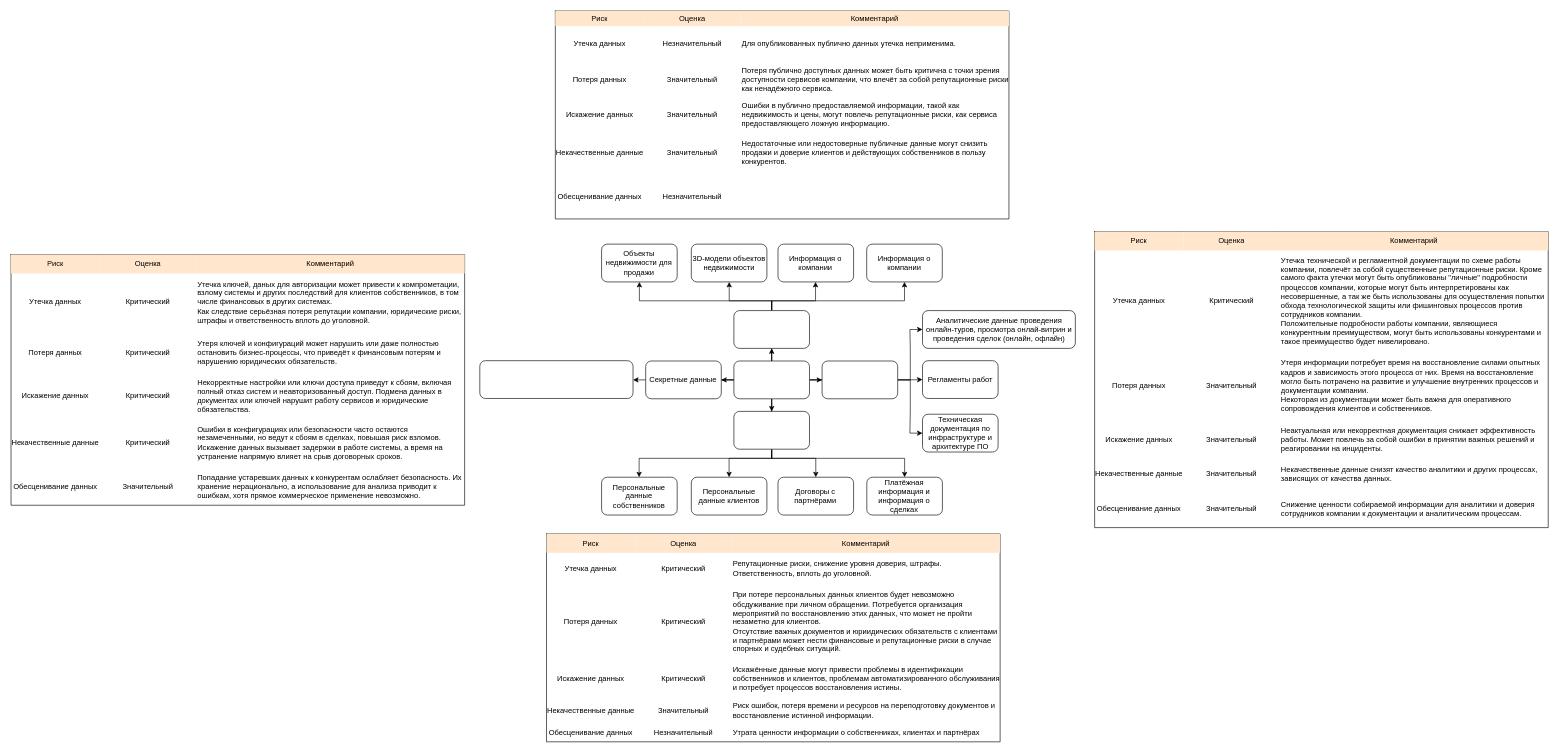
The diagram is 1559 pixels wide and 753 high, and some of its shapes have lost their labels. Here are the shapes that lost their labels. From the top down, the centre of each, then its label:
At pixel 771 329: "Публичные данные".
At pixel 556 379: "Токены авторизации, ключи API и данные авторизации в сторонних сервисах".
At pixel 771 379: "Безопасность данных".
At pixel 859 379: "Внутренние данные".
At pixel 771 430: "Конфиденциальные данные".
